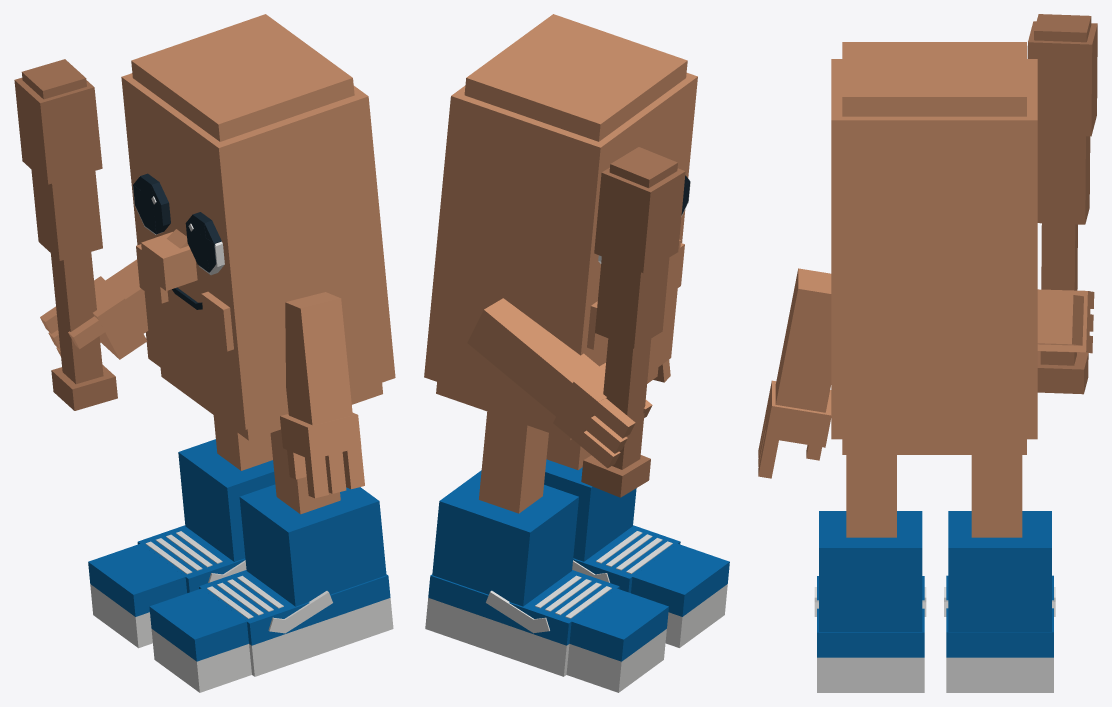
The model's file is Los_tungTungcitos.fbx.
3 views of the same model, side by side, from view 1: azimuth 30°, elevation 25°; view 2: azimuth 150°, elevation 25°; view 3: azimuth 270°, elevation 25° (orthographic). The views are drawn at different scales.
Parts seen in each view (by area): view 1: Los_tungTungcitos; view 2: Los_tungTungcitos; view 3: Los_tungTungcitos.
Part boxes in pixels (x1,y1,x2,y2): Los_tungTungcitos: [14, 14, 395, 692]; Los_tungTungcitos: [424, 14, 729, 692]; Los_tungTungcitos: [758, 14, 1097, 692].
Size of the model in its own units: 188 by 392 by 200.
